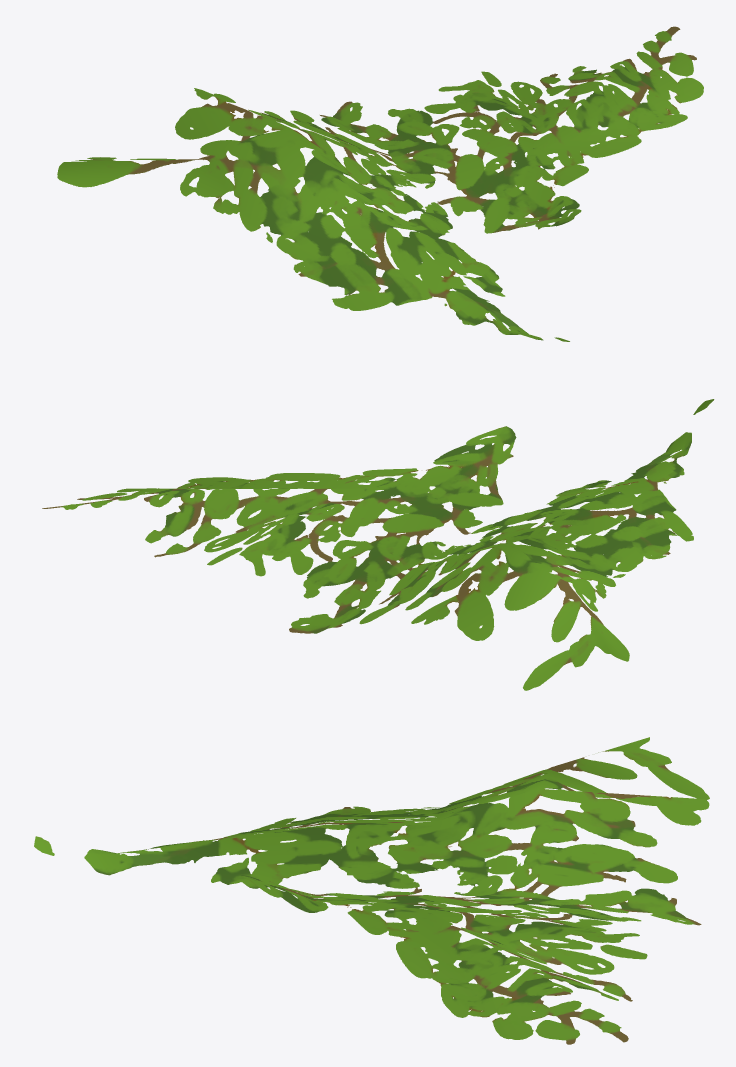
The model's file is mesh_vine_2.fbx.
The picture shows the model from 3 angles, top to bottom: view 1: azimuth 30°, elevation 25°; view 2: azimuth 150°, elevation 25°; view 3: azimuth 270°, elevation 25°; orthographic projection. The views are drawn at different scales.
Parts seen in each view (by area): view 1: mesh_vine_2; view 2: mesh_vine_2; view 3: mesh_vine_2.
Boxes of the visible parts, <box> form: mesh_vine_2: <box>57,26,703,341</box>; mesh_vine_2: <box>42,399,714,690</box>; mesh_vine_2: <box>34,737,709,1044</box>.
Bounding box in the file's own units: 47.75 × 5.85 × 45.25.
Materials: 1 (1 with a texture image).
